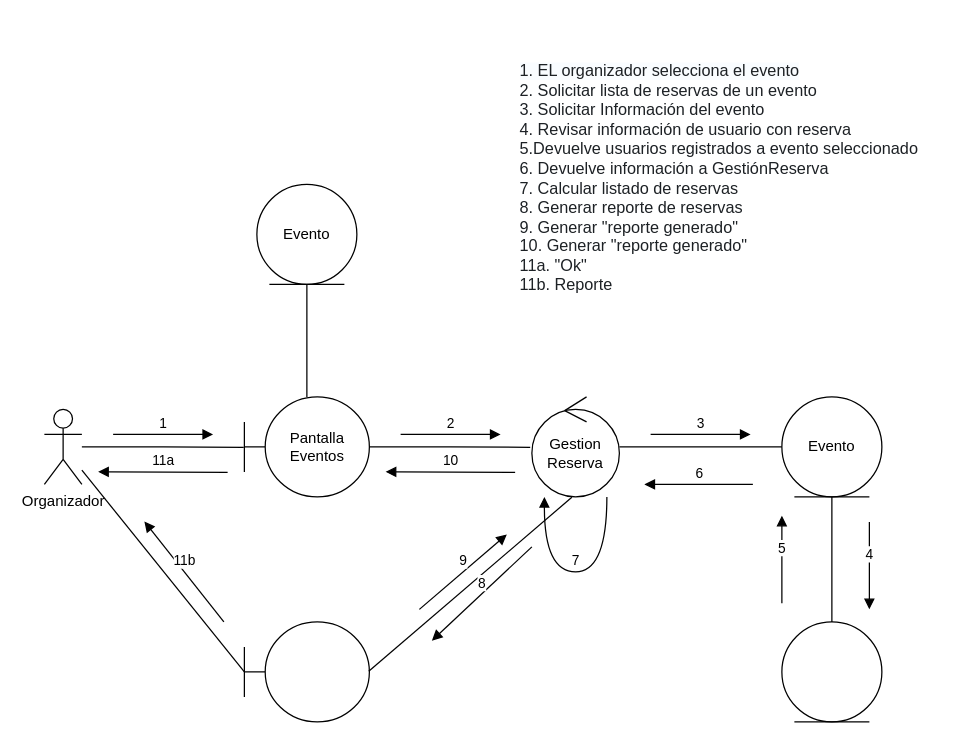
Some shapes in this 965 by 744 pixel diagram are drawn without their labels. The shapes that lost their labels are listed below. From the top down, each one's centre as x and y in pixels, then its label:
the point at 306,671: Reporte Reservas
the point at 831,671: Reserva
